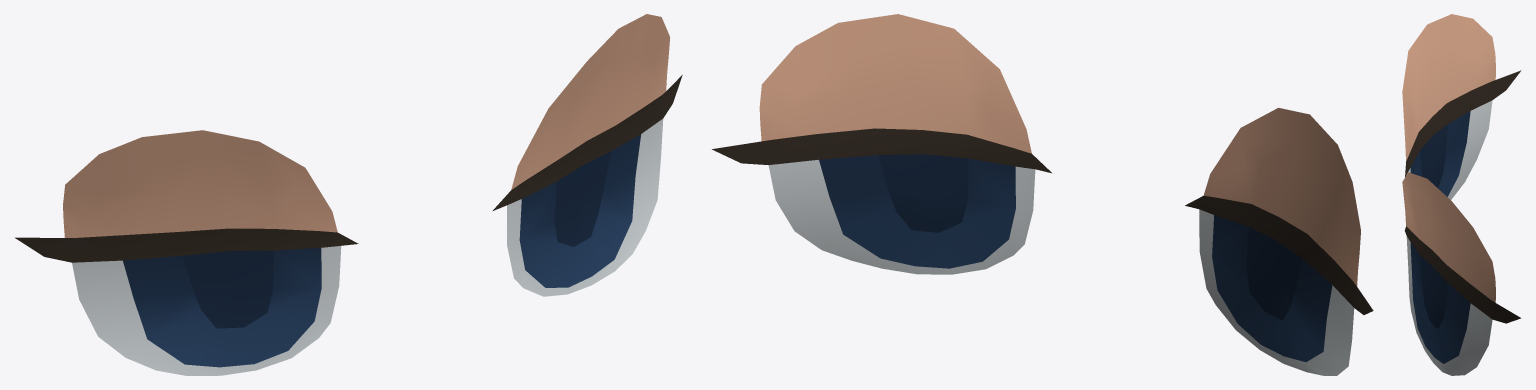
The model's file is Eye_2.fbx.
3 renders of one model, left to right at view 1: azimuth 30°, elevation 25°; view 2: azimuth 150°, elevation 25°; view 3: azimuth 270°, elevation 25°, orthographic. The views are drawn at different scales.
Visible parts, largest first — view 1: Eye_2; view 2: Eye_2; view 3: Eye_2.
Part boxes in pixels (box(x1,y1,x2,y2)): Eye_2: box(15, 14, 682, 375); Eye_2: box(712, 14, 1373, 375); Eye_2: box(1402, 14, 1521, 375).
Bounding box in the file's own units: 41.23 × 14.98 × 8.38.
